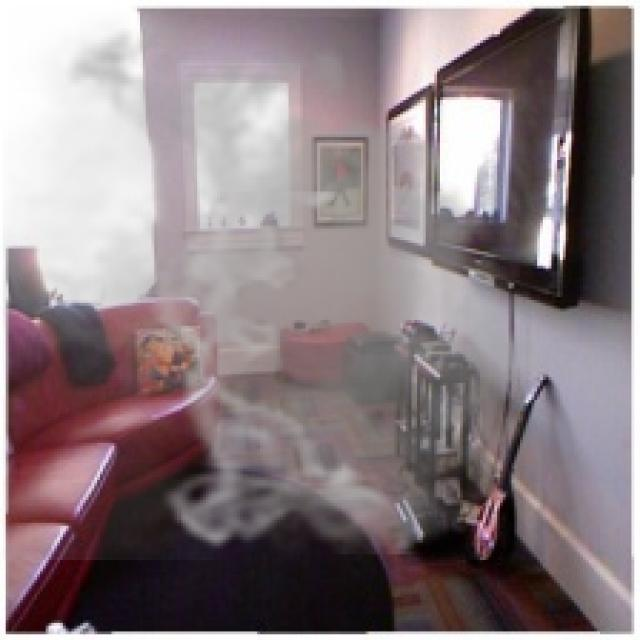smoke: (3, 11, 563, 560)
